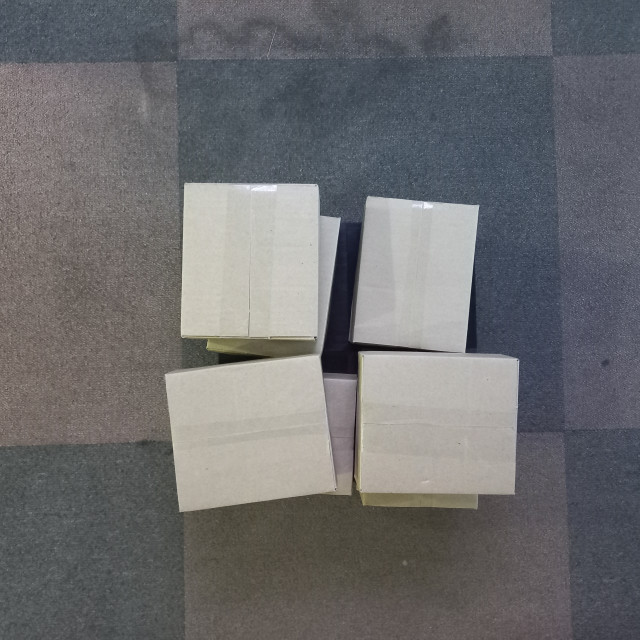box: (353, 307, 515, 439), (350, 170, 498, 296), (181, 318, 341, 427), (194, 200, 355, 300)
